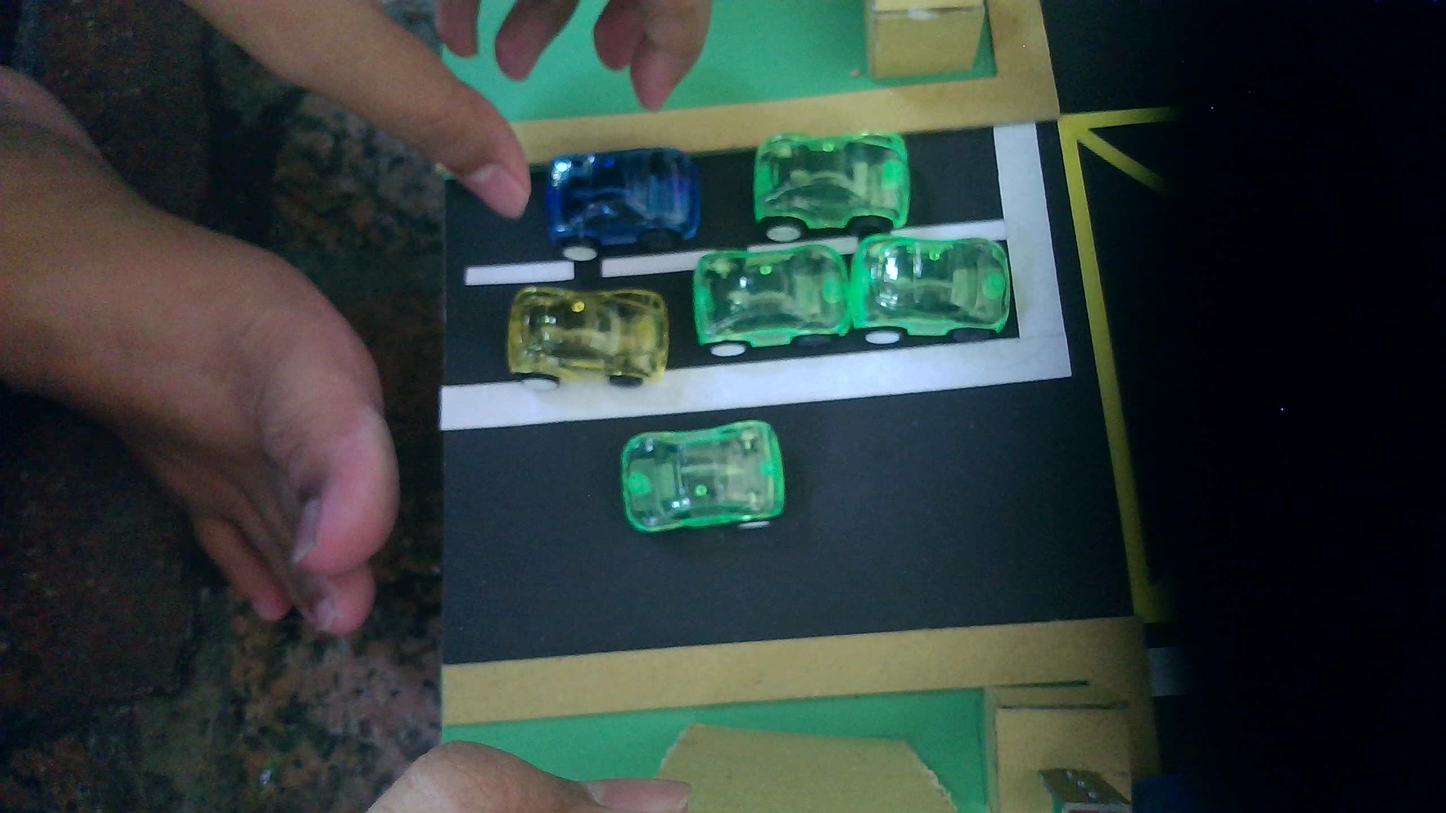Mobil biru: (546, 148, 701, 261)
Mobil hijau: (848, 234, 1012, 343), (754, 132, 912, 242), (693, 244, 848, 355)
Mobil kuning: (506, 287, 669, 390)
